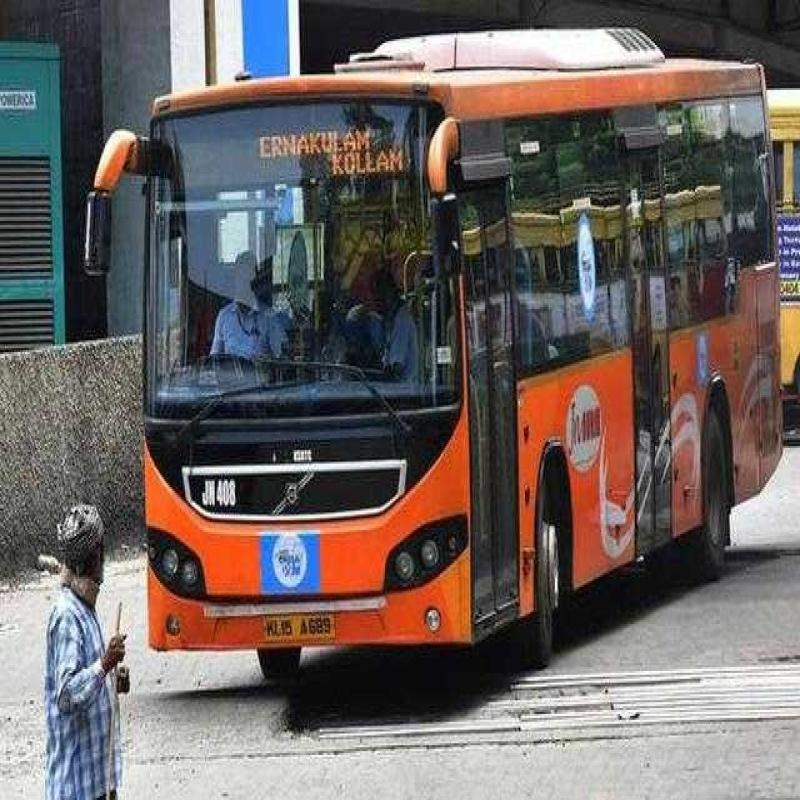bus: (71, 22, 797, 672)
